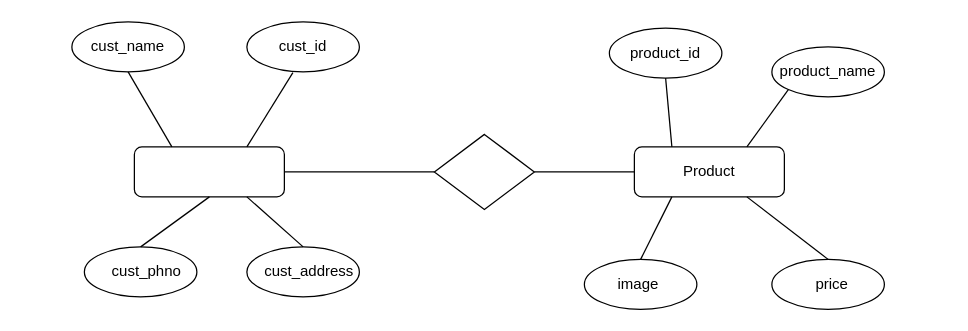
The diagram is 968 pixels wide and 331 high, and some of its shapes have lost their labels. Each missing label, with the centre of its shape:
customer: the point at 208,171
salles: the point at 483,171
